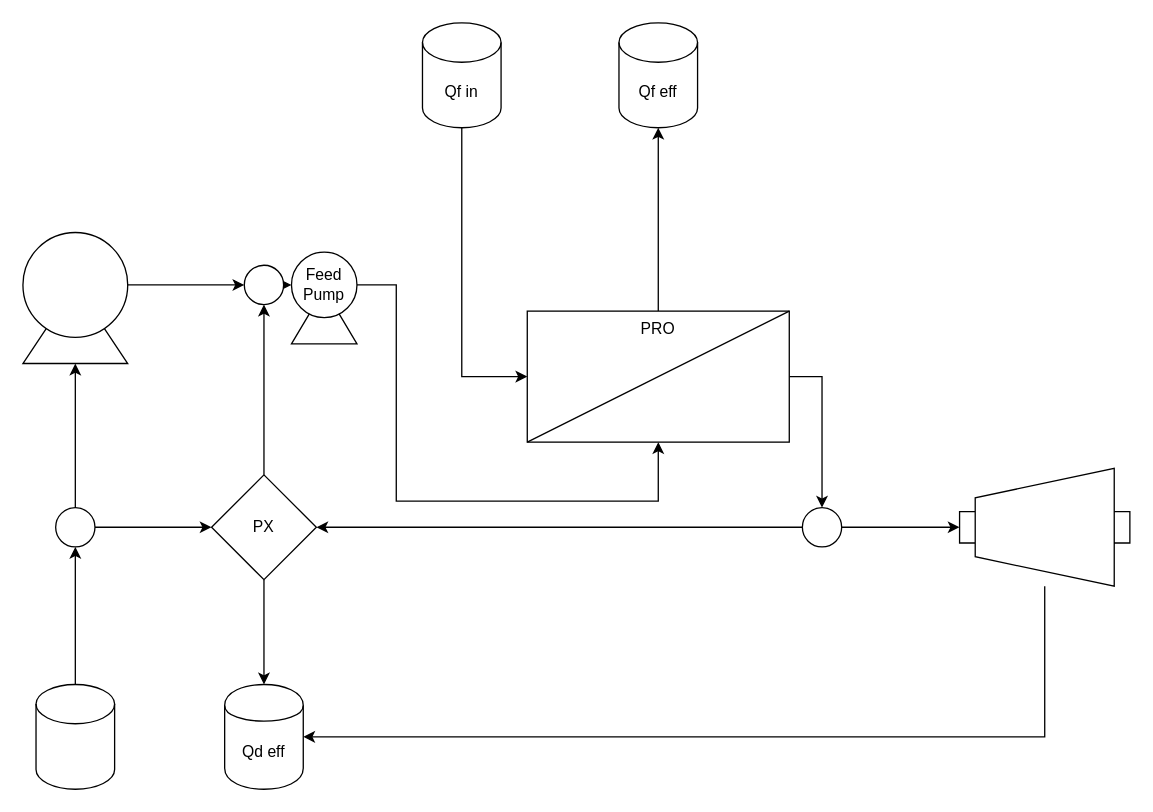
Some shapes in this 1153 by 812 pixel diagram are drawn without their labels. The shapes that lost their labels are listed below. From the top down, each one's centre as x and y in pixels, then its label:
At (75,284): "HP Pump".
At (1044,526): "Turbine".
At (75,736): "Qd in".
